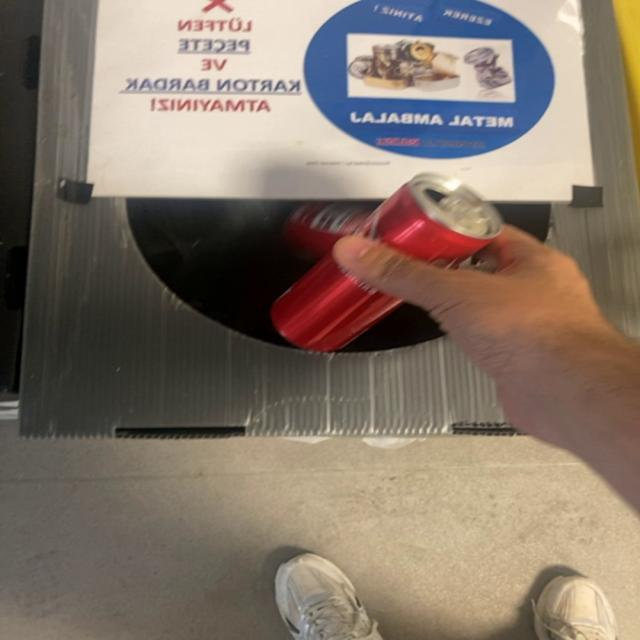Bin: (20, 0, 517, 438), (503, 0, 639, 336)
Metal: (273, 173, 504, 352)
